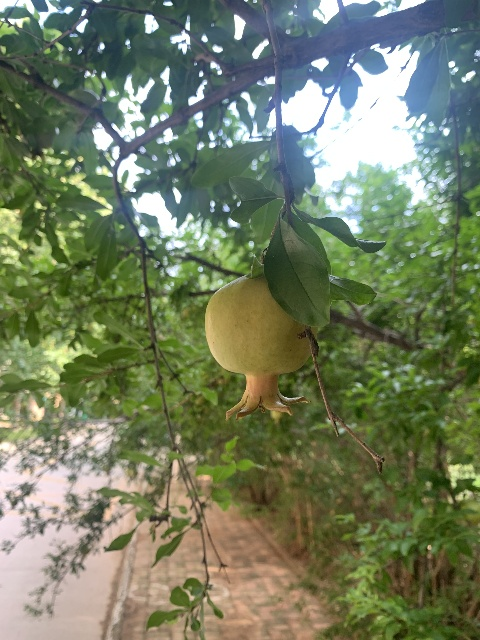mid-growth: (204, 275, 318, 421)
